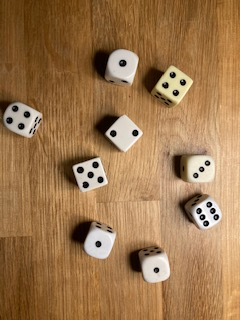five: (70, 155, 111, 194)
four: (150, 63, 194, 109), (2, 101, 44, 140)
one: (103, 48, 140, 87), (82, 221, 117, 261), (138, 246, 171, 283)
six: (183, 192, 224, 231)
three: (179, 152, 219, 186)
two: (103, 113, 145, 154)
